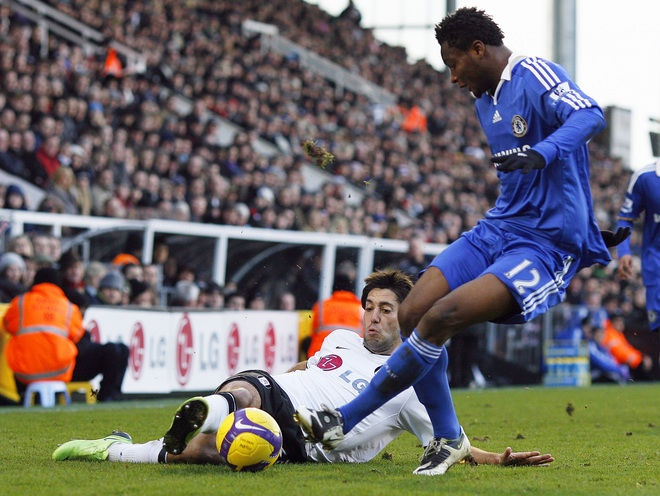falling: (52, 271, 525, 481)
